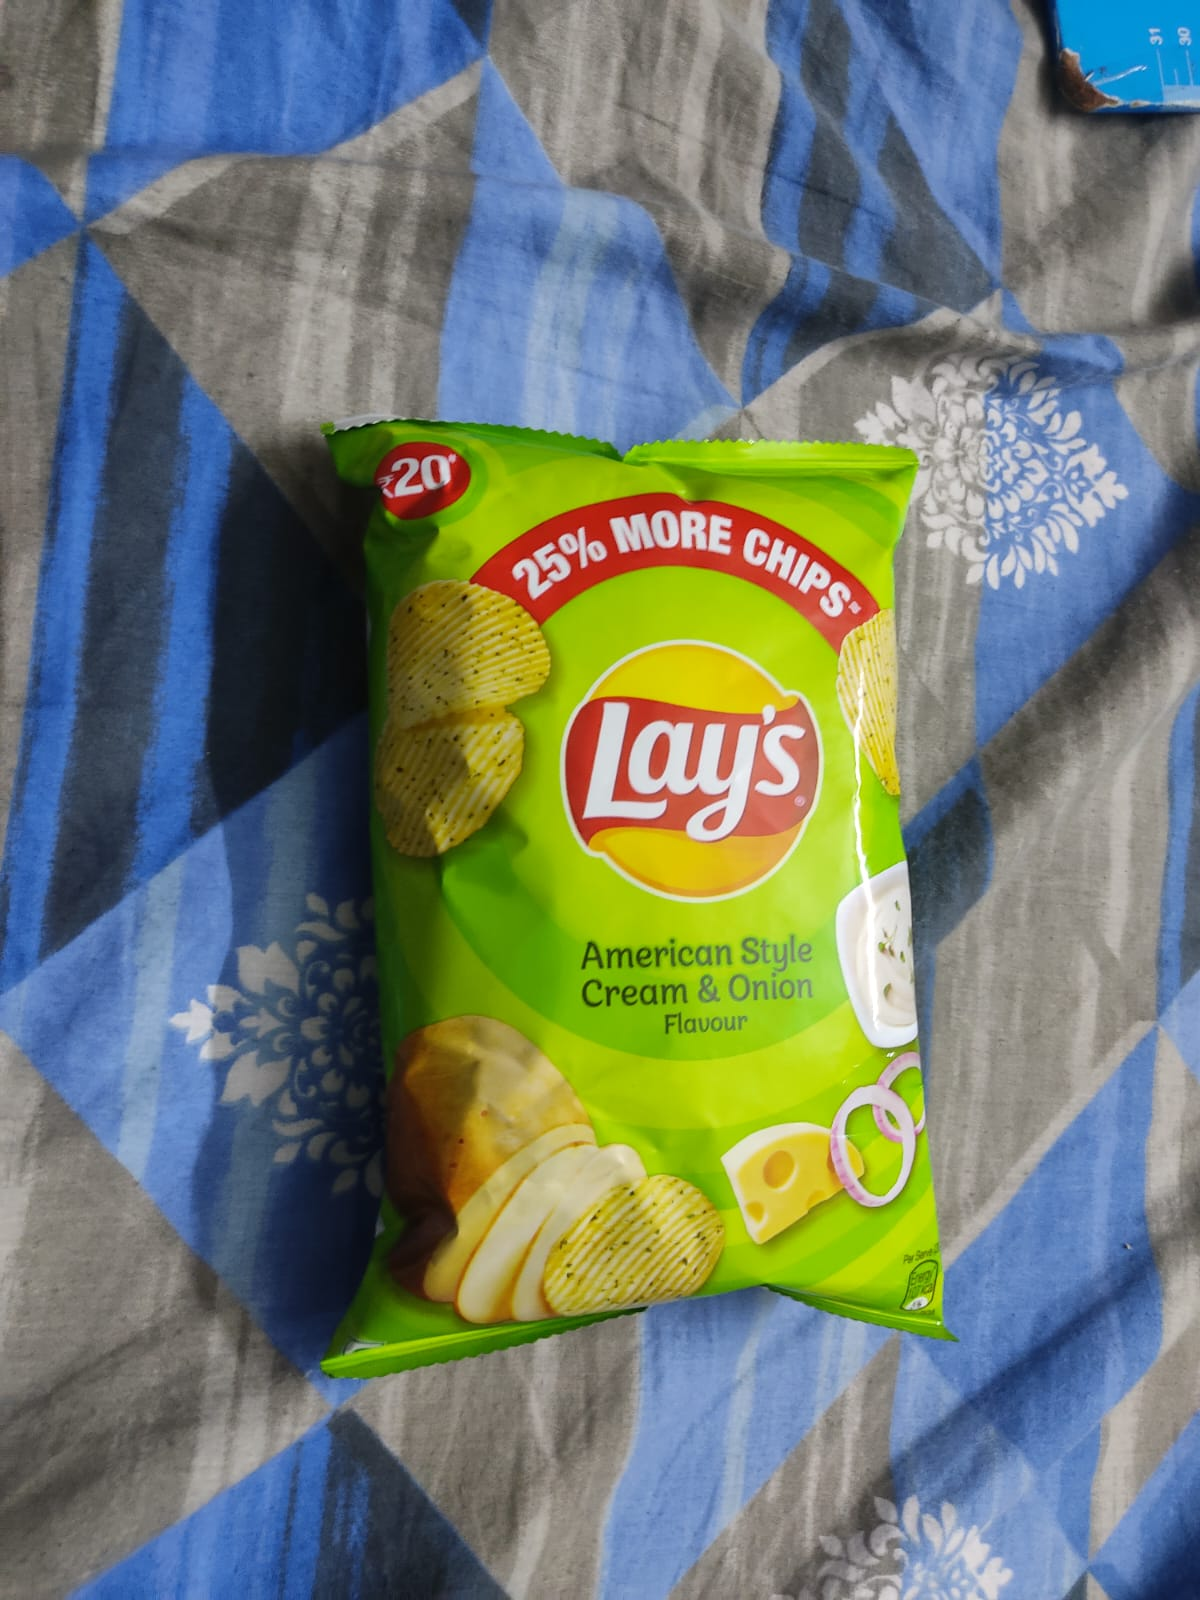020_GreenLays: (366, 427, 933, 1308)
